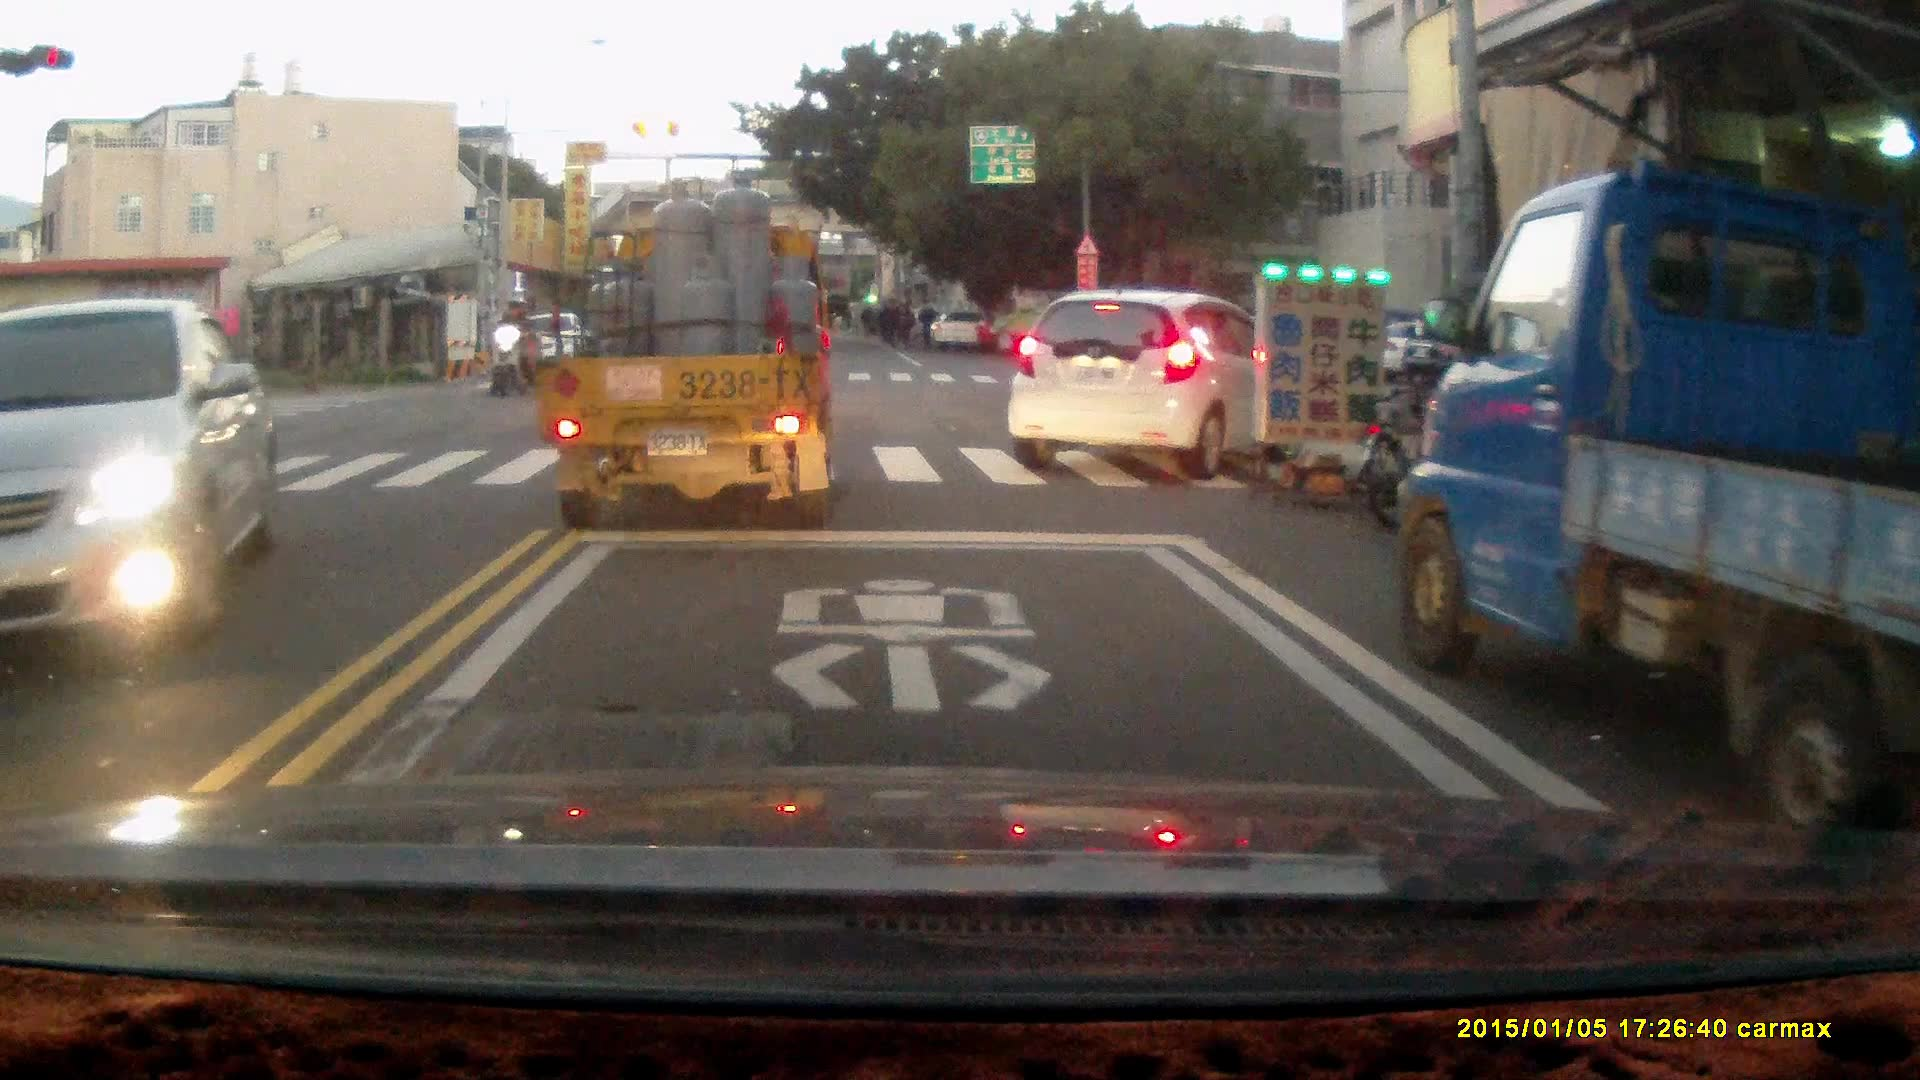rider: (487, 298, 538, 397)
vehicle: (1387, 174, 1920, 816), (531, 172, 838, 532), (1, 297, 275, 660), (1005, 287, 1279, 470), (507, 312, 588, 379)
